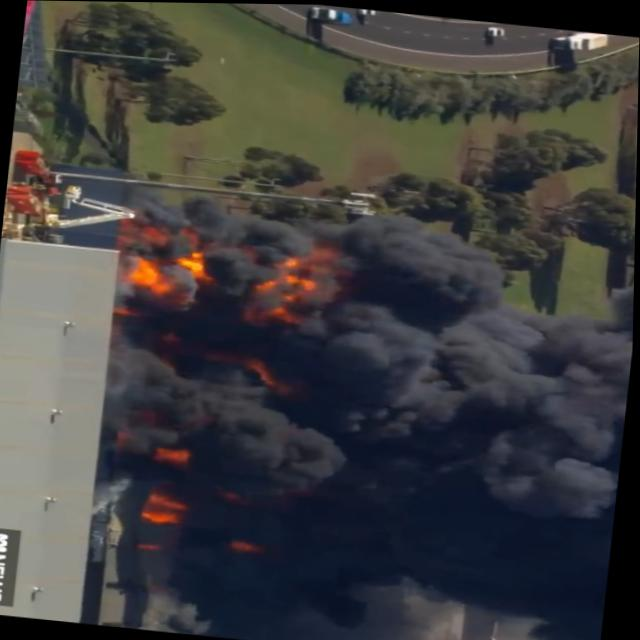Fire: (261, 255, 339, 324), (120, 245, 183, 302), (139, 489, 197, 536), (146, 438, 213, 474), (241, 352, 287, 391), (180, 248, 225, 286), (226, 534, 275, 558)
